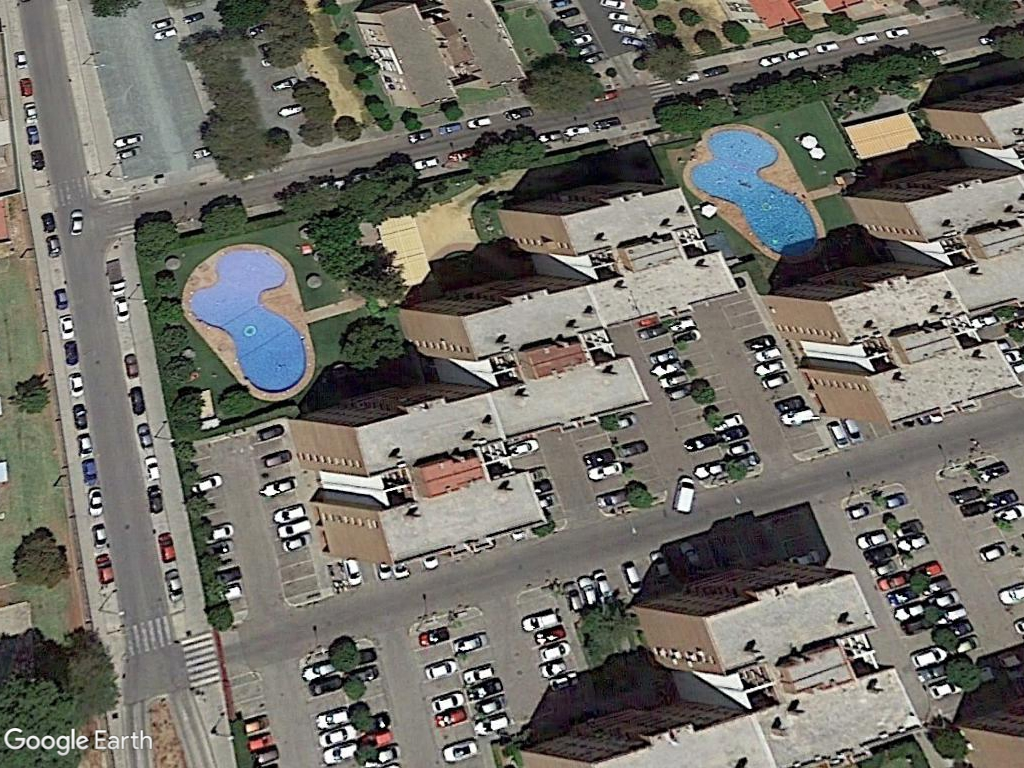car: (582, 457, 630, 485), (154, 528, 180, 569), (93, 549, 118, 591), (421, 658, 460, 684), (257, 477, 303, 499), (424, 690, 468, 713), (65, 205, 89, 243), (84, 486, 108, 523), (141, 453, 166, 488), (66, 368, 90, 403), (55, 311, 80, 342), (258, 448, 296, 468), (134, 418, 155, 453), (75, 431, 97, 463), (122, 352, 143, 384), (112, 296, 133, 325)
van: (516, 608, 563, 633)
